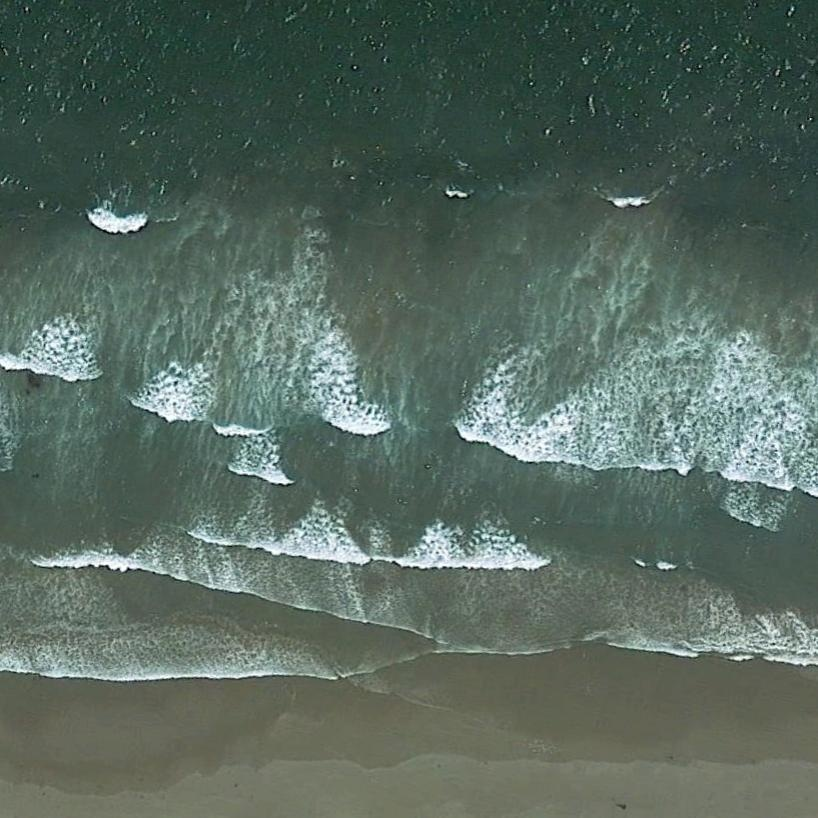rip_current: (277, 167, 529, 563)
